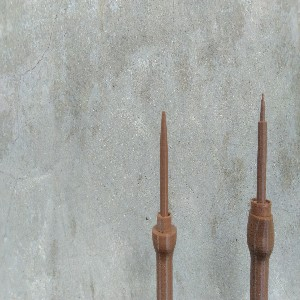obeng: (152, 110, 179, 300)
solder: (247, 91, 276, 300)
